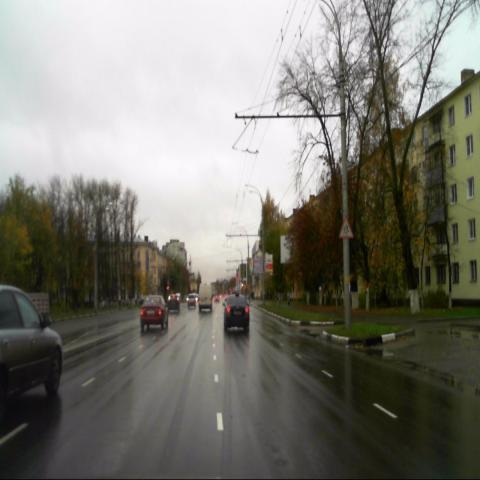1_23: (339, 215, 353, 238)
